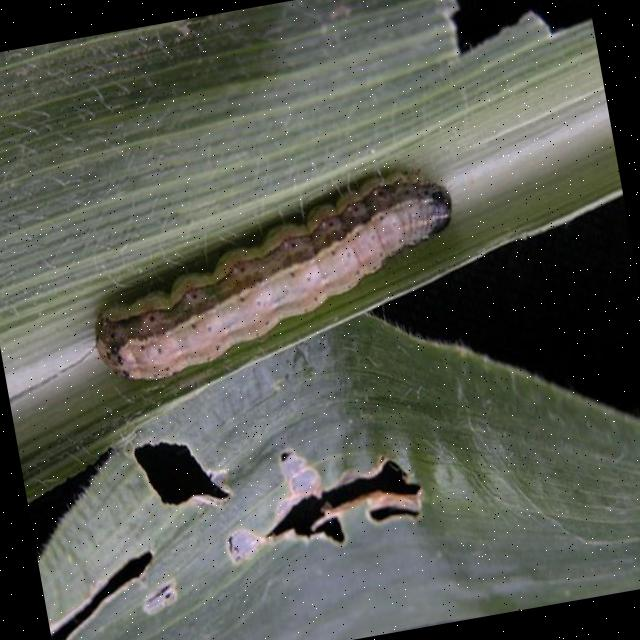worm: (76, 162, 475, 393)
